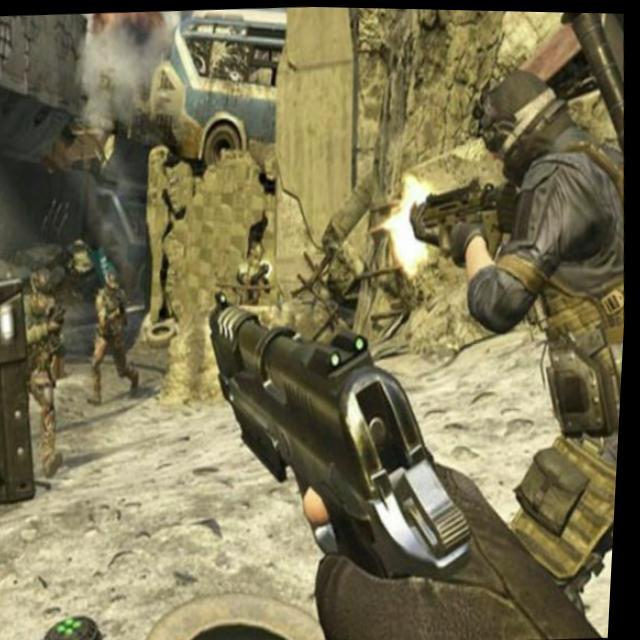weapon: (198, 274, 492, 614), (407, 179, 528, 266), (48, 306, 75, 356)
